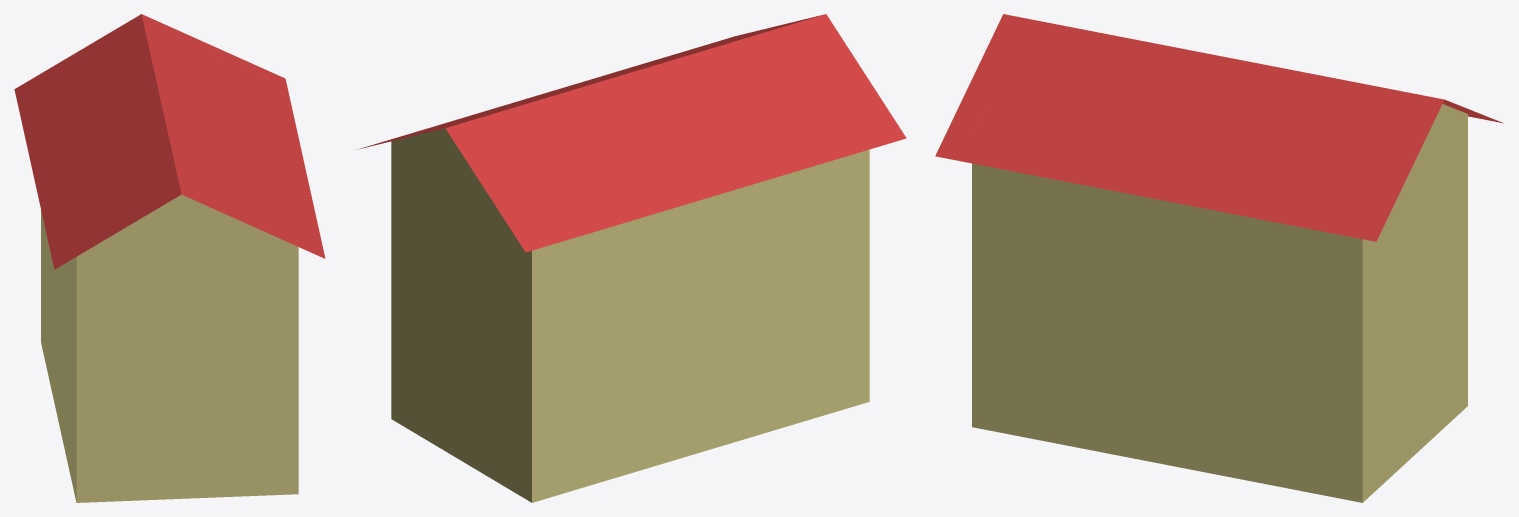
3 renders of one model, left to right at view 1: azimuth 30°, elevation 25°; view 2: azimuth 150°, elevation 25°; view 3: azimuth 270°, elevation 25°, orthographic. The views are drawn at different scales.
Bounding box in the file's own units: 8.69 × 10.26 × 7.08.
